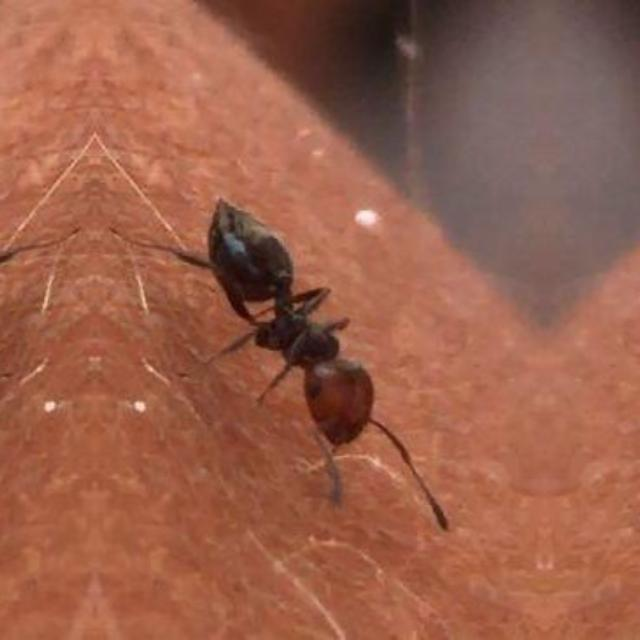Crematogaster: (183, 192, 391, 456)
